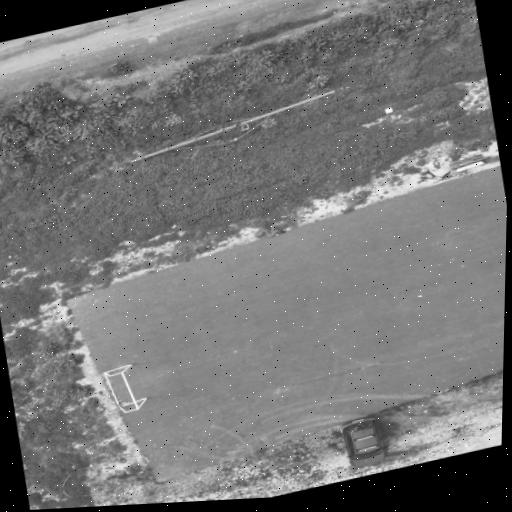car: (341, 418, 385, 468)
